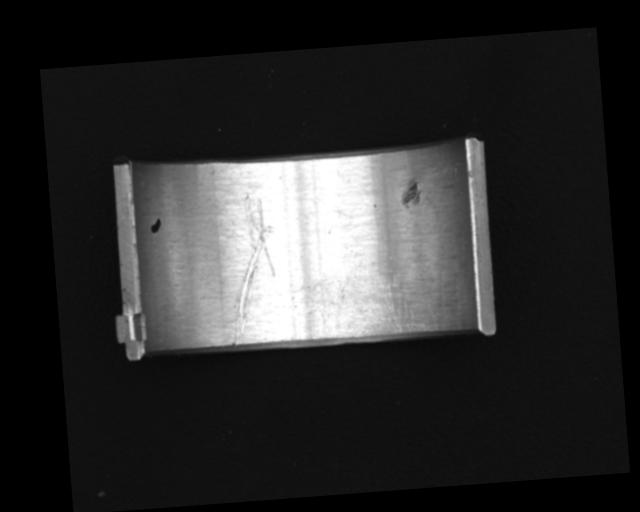blot: (148, 215, 163, 234)
bruise: (399, 179, 422, 208)
nick: (219, 190, 282, 345)
scratch: (315, 253, 431, 340)
